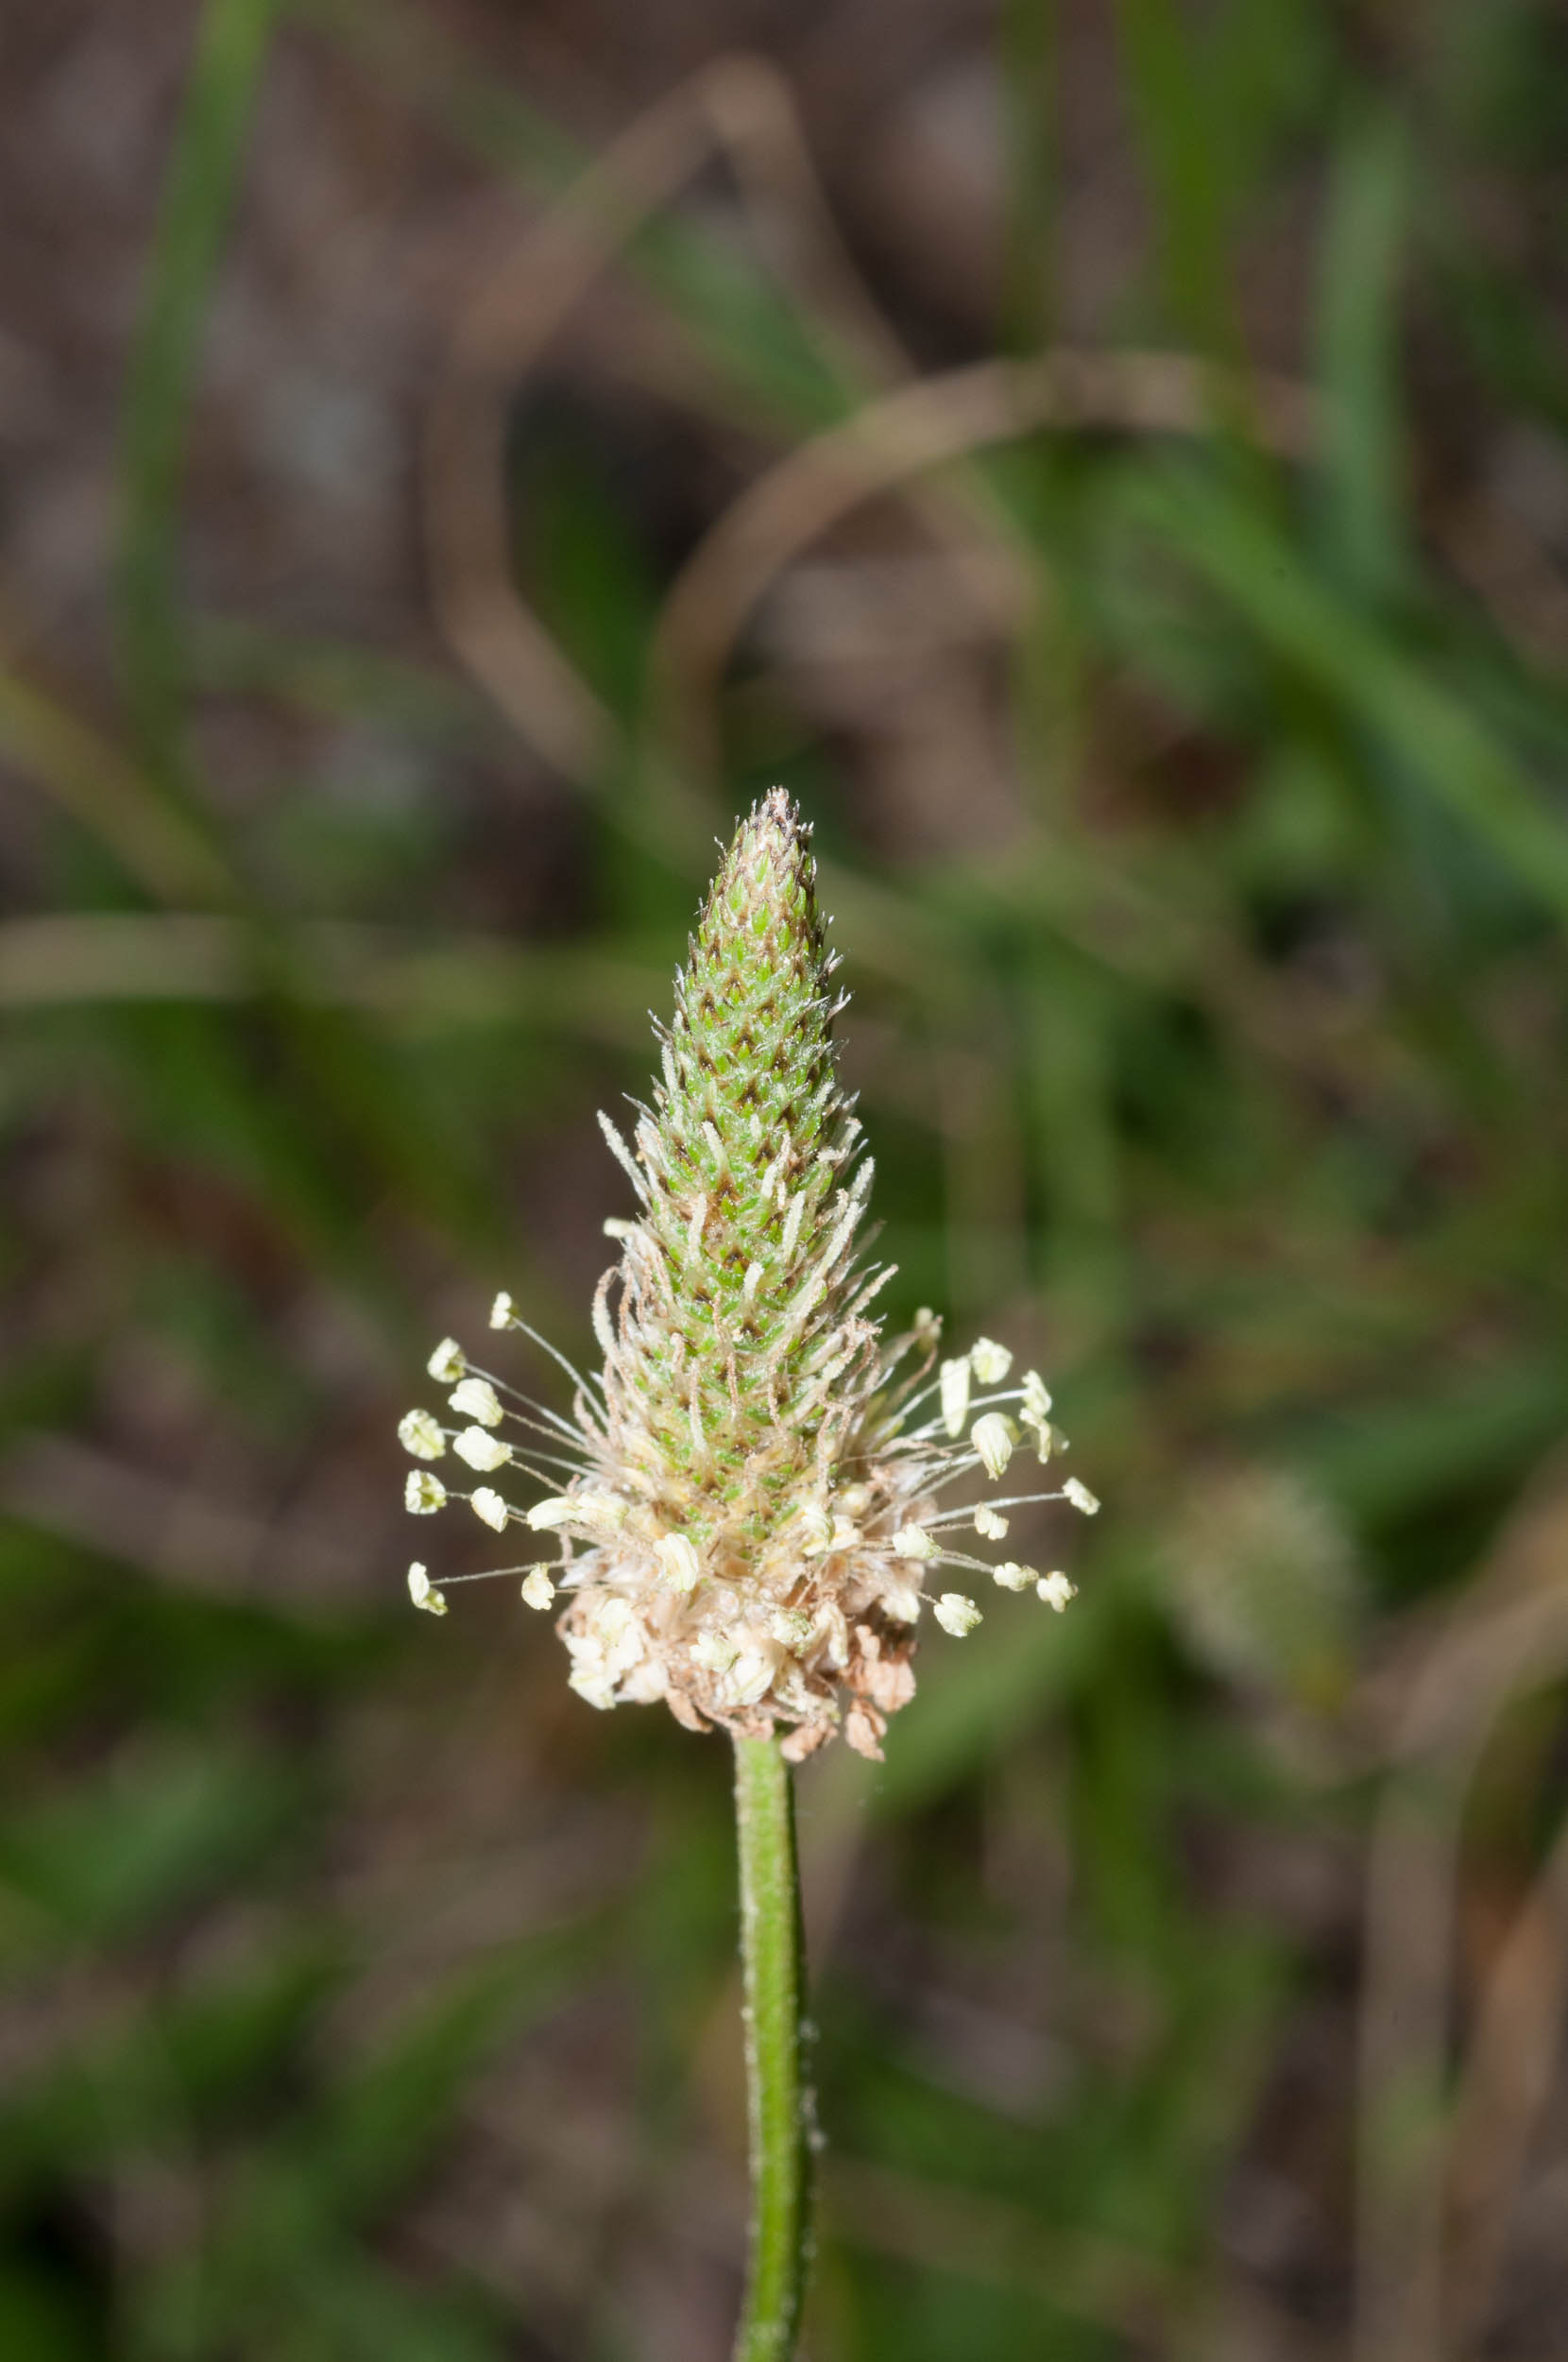buckhorn plantain: (296, 770, 1081, 2073)
